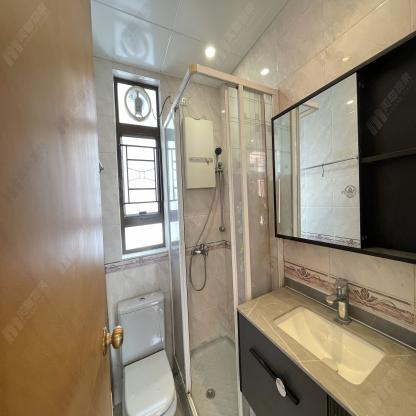Exhaust Fan: (123, 88, 152, 119)
Toilet: (118, 290, 177, 416)
Toilet Sink: (235, 286, 416, 416)
Water Heater: (182, 116, 216, 189)
